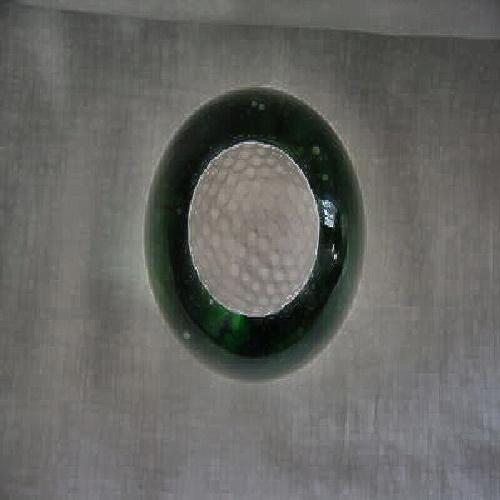toaster: (143, 88, 371, 376)
